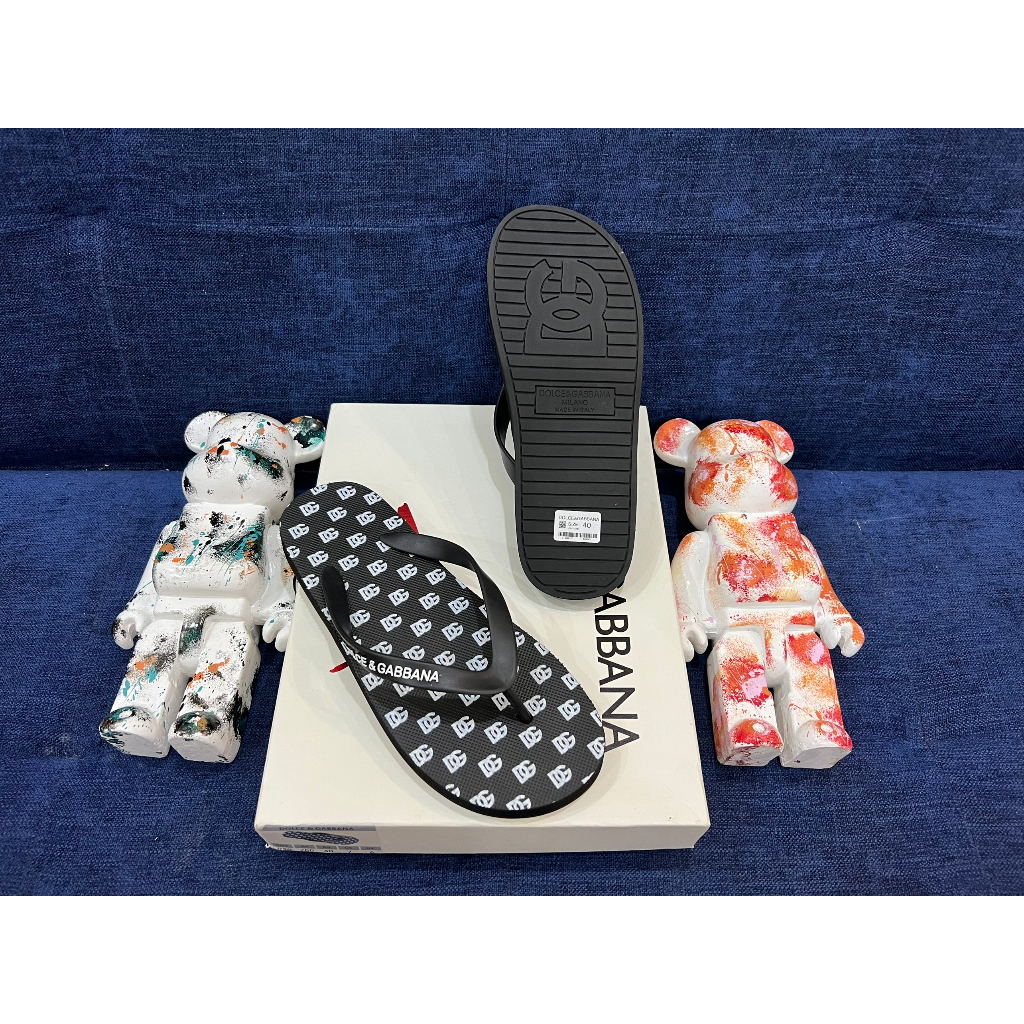flip_flops: (281, 484, 603, 819), (482, 202, 648, 601)
